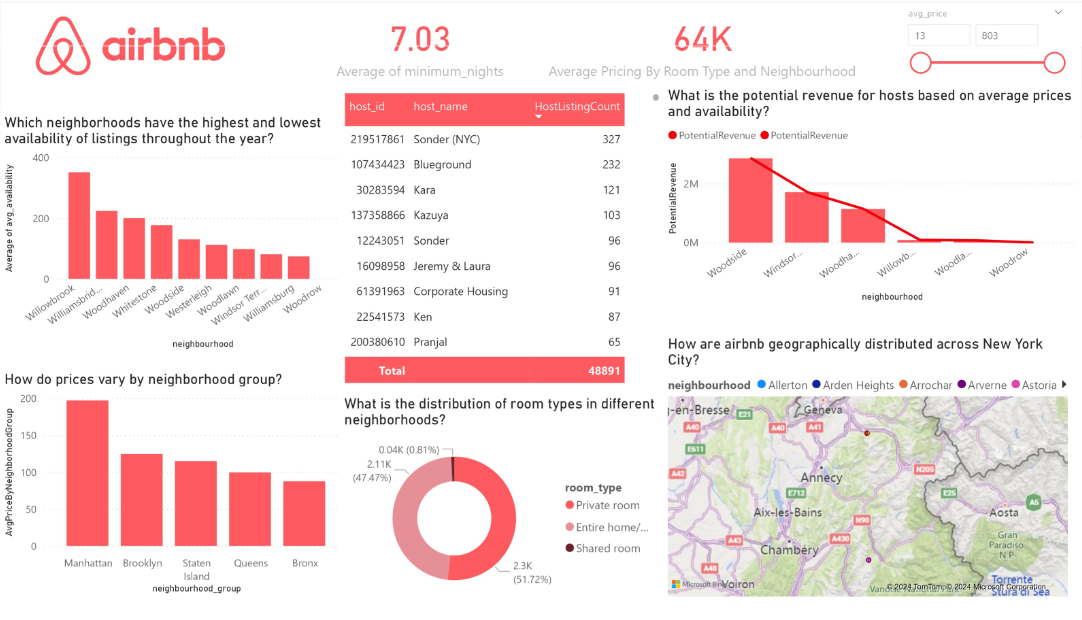

Layout of this report page (visuals, bound fields, positions):
{"tool":"powerbi","page":{"name":"AB_NYC_19_Report","canvas":[1280,720],"ordinal":0},"visuals":[{"type":"image","box":[11,12.2,284.9,79.5],"z":1},{"type":"card","fields":{"Values":["AvgPriceByRoomTypeAndNeighbourhood.avg_price"]},"box":[639.5,0,381.5,100.3],"z":2},{"type":"card","fields":{"Values":["AB_NYC_2019.minimum_nights"]},"box":[353.4,0,286.1,100.3],"z":3},{"type":"slicer","fields":{"Values":["AvgPriceByRoomTypeAndNeighbourhood.avg_price"]},"box":[1061.4,2.4,207.9,100.3],"z":4},{"type":"clusteredColumnChart","title":"Which neighborhoods have the highest and lowest availability of listings throughout the year?","fields":{"Y":["AvgAvailabilityByNeighbourhood.avg_availability"],"Category":["AvgAvailabilityByNeighbourhood.neighbourhood"]},"box":[0,131.7,417.2,284],"z":5},{"type":"clusteredColumnChart","title":"How do prices vary by neighborhood group?","fields":{"Y":["AB_NYC_2019.AvgPriceByNeighborhoodGroup"],"Category":["AB_NYC_2019.neighbourhood_group"]},"box":[0,436.4,417.2,269],"z":6},{"type":"tableEx","fields":{"Values":["AB_NYC_2019.host_id","AB_NYC_2019.host_name","AB_NYC_2019.HostListingCount"]},"box":[402.1,102.9,382.8,352.7],"z":7},{"type":"map","title":"How are airbnb geographically distributed across New York City?","fields":{"Category":["AB_NYC_2019.latitude","AB_NYC_2019.longitude"],"Series":["AB_NYC_2019.neighbourhood"]},"box":[784.9,393.8,484.4,315.6],"z":8},{"type":"donutChart","title":"What is the distribution of room types in different neighborhoods?","fields":{"Category":["AB_NYC_2019.room_type"],"Y":["AB_NYC_2019.neighbourhood"]},"box":[402.1,465.2,382.8,255.2],"z":9},{"type":"lineClusteredColumnComboChart","title":"What is the potential revenue for hosts based on average prices and availability?","fields":{"Y":["AB_NYC_2019.PotentialRevenue"],"Y2":["AB_NYC_2019.PotentialRevenue"],"Category":["AB_NYC_2019.neighbourhood"]},"box":[784.9,100.2,495.4,259.3],"z":10}]}

Visuals, with their boxes in screenshot pixels (x1, y1, x2, y2), scaled from the page's 1280x720 canvas onto the 1082x620 screenshot:
image: box=[9, 11, 250, 79]
card - AvgPriceByRoomTypeAndNeighbourhood.avg_price: box=[541, 0, 863, 86]
card - AB_NYC_2019.minimum_nights: box=[299, 0, 541, 86]
slicer - AvgPriceByRoomTypeAndNeighbourhood.avg_price: box=[897, 2, 1073, 88]
"Which neighborhoods have the highest and lowest availability of listings throughout the year?" clusteredColumnChart: box=[0, 113, 353, 358]
"How do prices vary by neighborhood group?" clusteredColumnChart: box=[0, 376, 353, 607]
tableEx - AB_NYC_2019.host_id x AB_NYC_2019.host_name: box=[340, 89, 663, 392]
"How are airbnb geographically distributed across New York City?" map: box=[663, 339, 1073, 611]
"What is the distribution of room types in different neighborhoods?" donutChart: box=[340, 401, 663, 619]
"What is the potential revenue for hosts based on average prices and availability?" lineClusteredColumnComboChart: box=[663, 86, 1081, 310]
